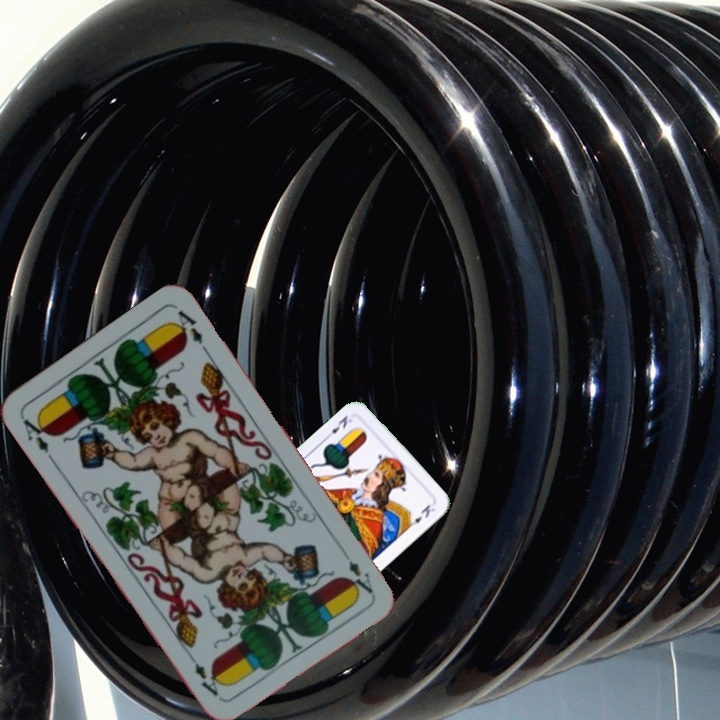EA: (17, 412, 54, 456), (344, 556, 376, 597)
EK: (321, 411, 354, 442)
